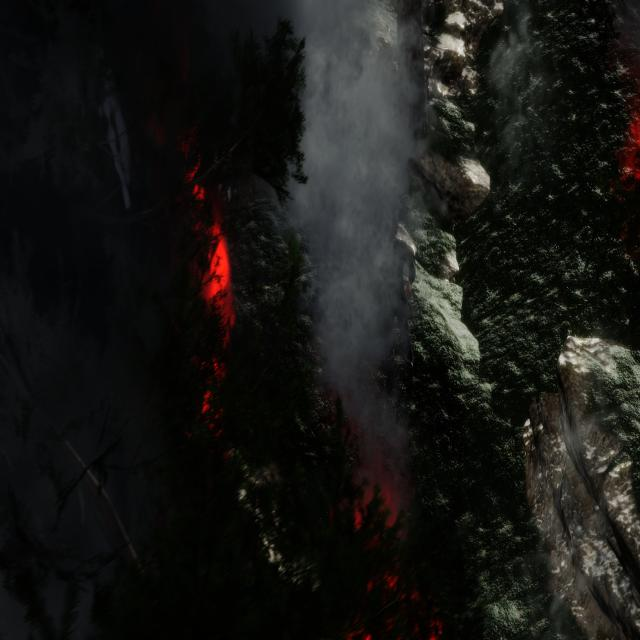Human: (371, 212, 420, 415)
